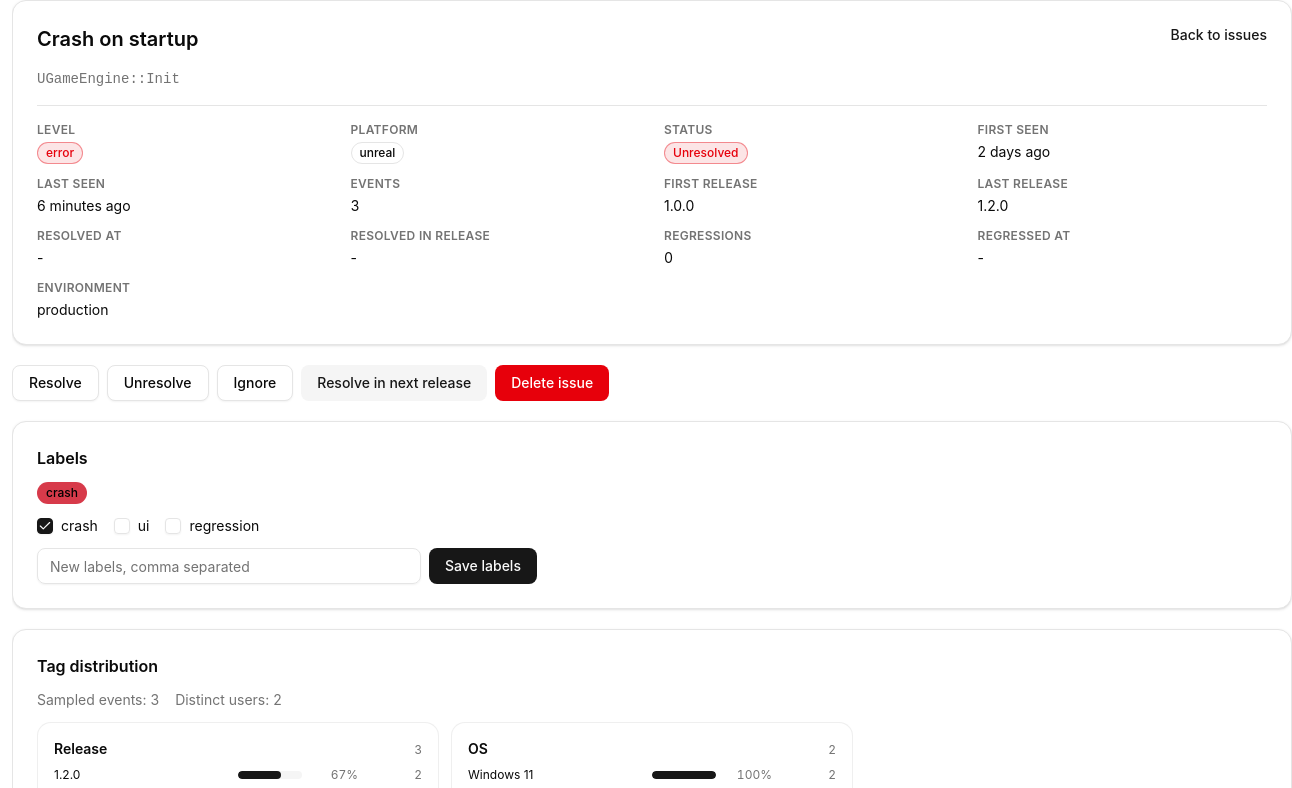
Test: IssueDetailPage › saves checked labels plus typed names in project order and clears the input
expect the element with test id "issue-detail-header" is shown: met, box [12,0,1291,345]
Click the checkbox named "ui".
click(122, 526)  # box [114,518,130,534]
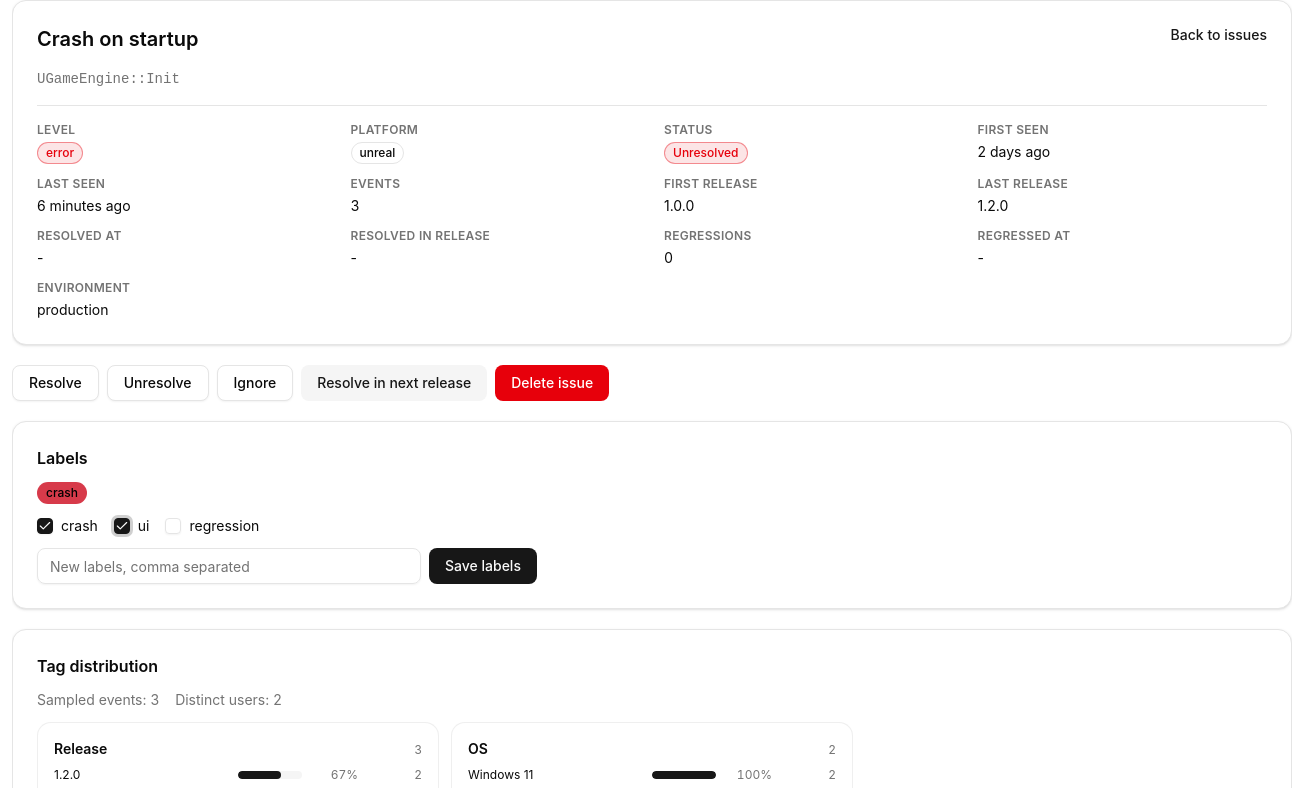
expect the checkbox named "ui" is checked: met, box [114,518,130,534]
Type " feature , crash , feature " into the field named "New label names".
click(229, 566); type(" feature , crash , feature ")  # box [37,548,421,584]
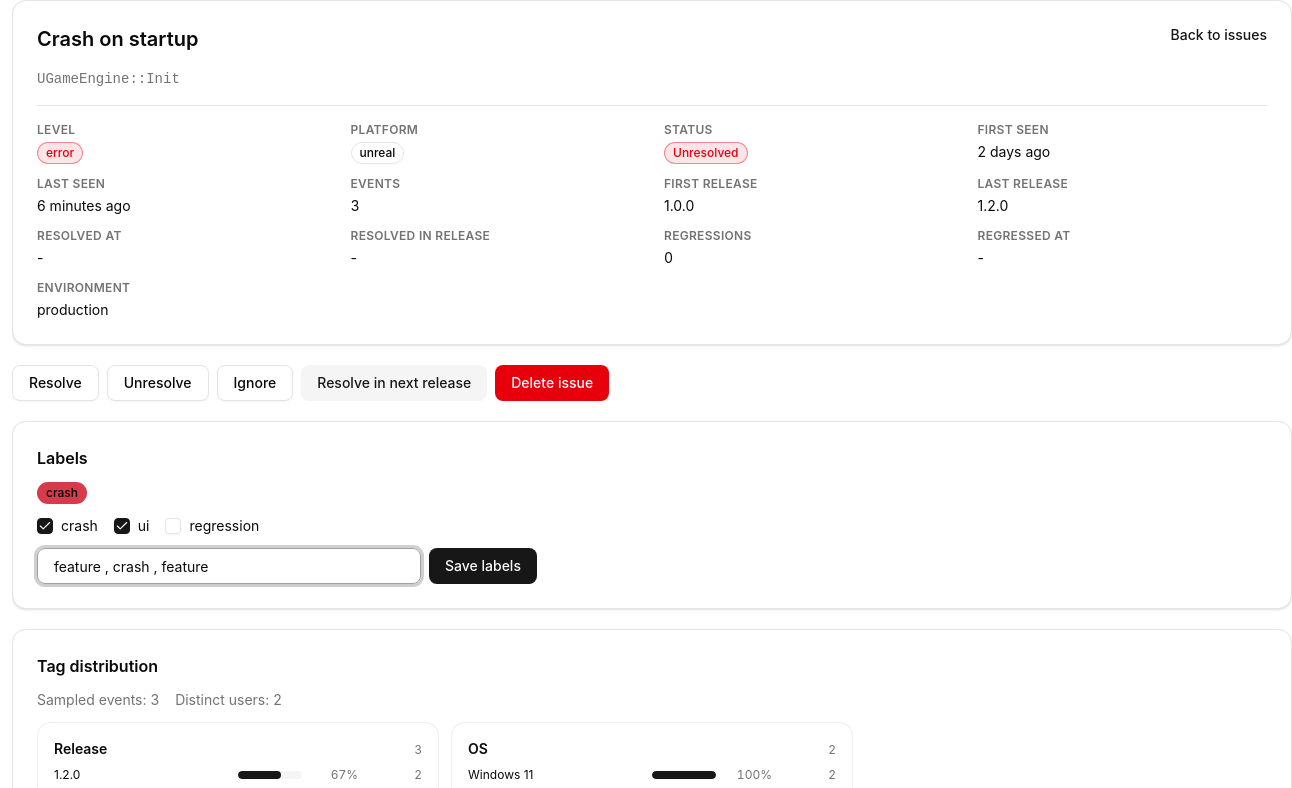
Click the button "Save labels".
click(483, 566)  # box [429,548,537,584]
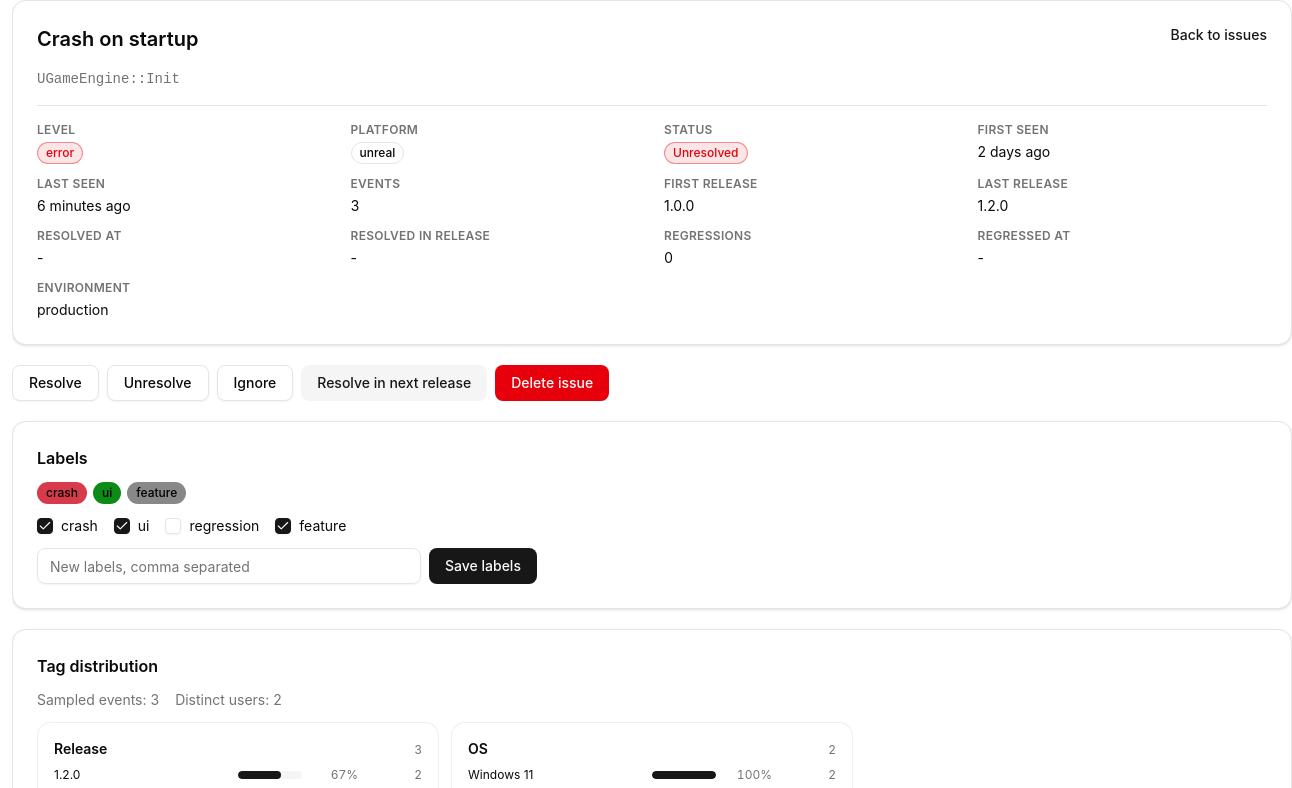
expect the checkbox named "ui" is checked: met, box [114,518,130,534]
expect the field named "New label names" is empty: met, box [37,548,421,584]
expect the text "feature" is shown: met, box [127,482,186,504]
